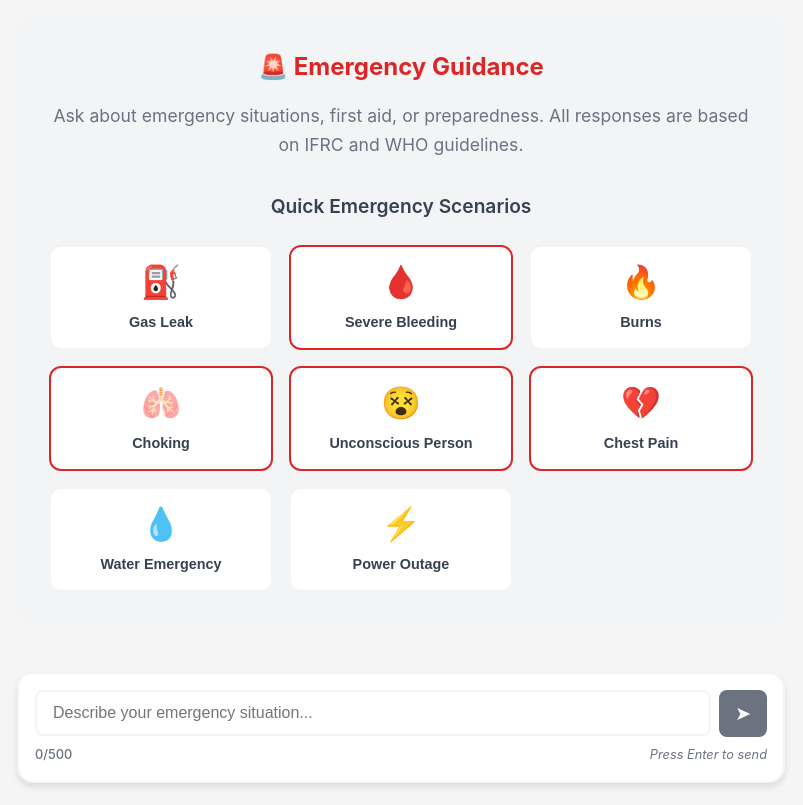
Test: ChatInterface Component › handles API error
Type "test query" into the field with placeholder "Describe your emergency situation...".
click(373, 713); type("test query")  # box [35,690,711,736]
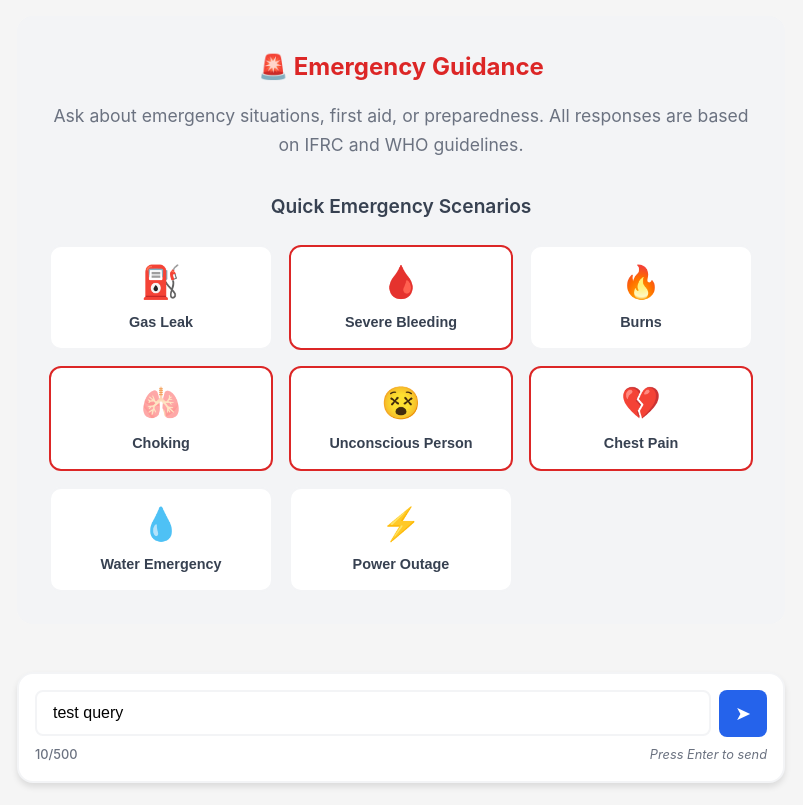
Submit the form with placeholder "Describe your emergency situation...", box [17,672,785,783]
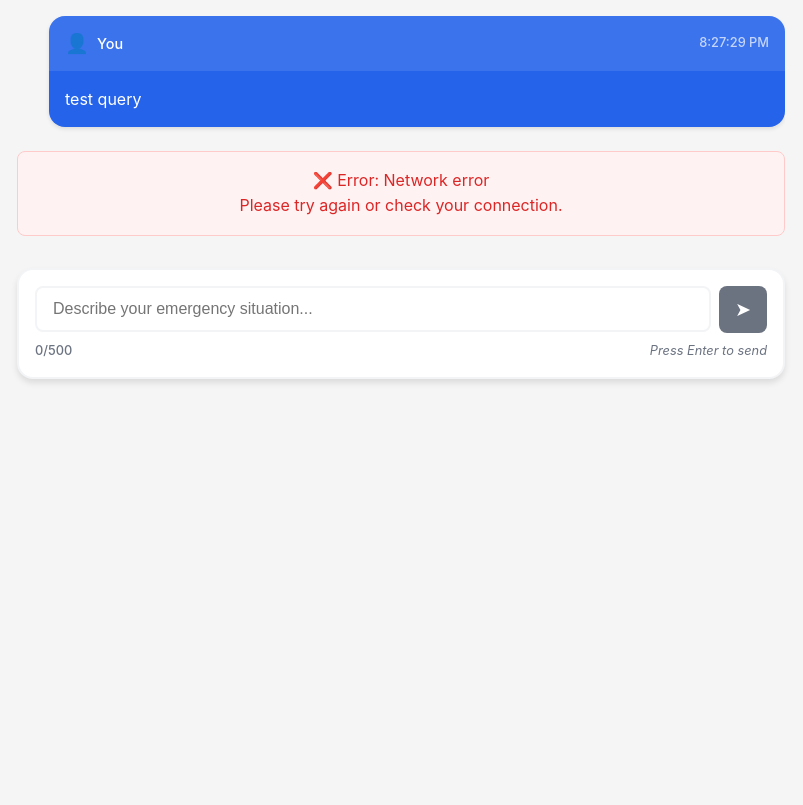
Expected: the text "❌ Error: Network error" is shown, [313,170,489,190]
